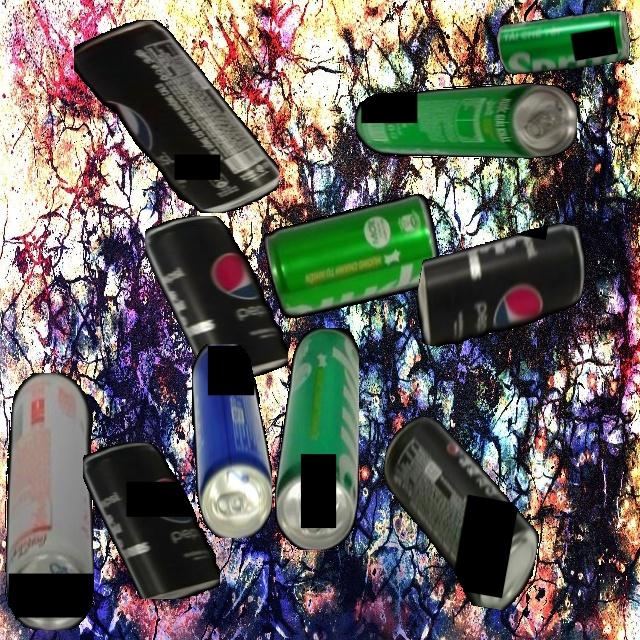debris: (73, 20, 279, 213), (363, 412, 556, 614), (409, 202, 593, 369), (261, 193, 445, 321), (145, 215, 288, 379), (4, 372, 94, 630), (83, 442, 220, 599), (274, 327, 359, 550), (354, 83, 577, 159), (191, 343, 272, 538), (495, 4, 633, 81)
